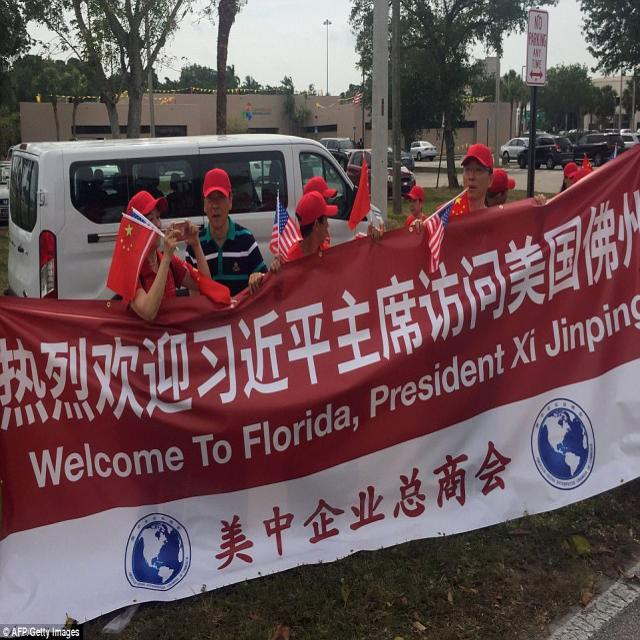body: (184, 166, 270, 310), (126, 188, 213, 324), (408, 142, 496, 238), (266, 190, 338, 276), (302, 174, 339, 252), (215, 165, 262, 212), (558, 152, 595, 206), (484, 164, 517, 210), (403, 184, 428, 228), (531, 190, 547, 210), (354, 135, 365, 151)
